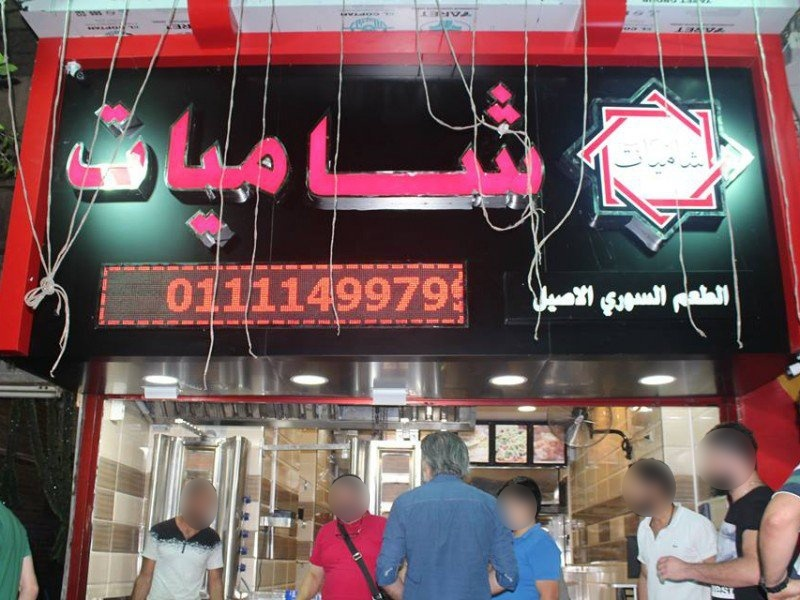text: (65, 83, 80, 240), (81, 83, 96, 240), (97, 83, 112, 240), (113, 83, 128, 240), (129, 83, 144, 240), (145, 83, 160, 240), (161, 83, 176, 240), (177, 83, 192, 240), (193, 83, 208, 240), (209, 83, 224, 240), (225, 83, 240, 240), (241, 83, 256, 240), (257, 83, 272, 240), (273, 83, 288, 240), (289, 83, 304, 240), (305, 83, 320, 240), (321, 83, 336, 240), (337, 83, 352, 240), (353, 83, 368, 240), (369, 83, 384, 240), (385, 83, 400, 240), (401, 83, 416, 240), (417, 83, 432, 240), (433, 83, 448, 240), (449, 83, 464, 240), (465, 83, 480, 240), (481, 83, 496, 240), (497, 83, 512, 240), (513, 83, 528, 240), (529, 83, 544, 240), (545, 83, 551, 240), (177, 273, 192, 316), (193, 273, 208, 316), (209, 273, 224, 316), (225, 273, 240, 316), (241, 273, 256, 316), (257, 273, 272, 316), (273, 273, 288, 316), (289, 273, 304, 316), (305, 273, 320, 316), (321, 273, 336, 316), (337, 273, 352, 316), (353, 273, 368, 316), (369, 273, 384, 316), (385, 273, 400, 316), (401, 273, 416, 316), (417, 273, 432, 316), (433, 273, 448, 316), (673, 283, 688, 319), (689, 283, 704, 319), (705, 283, 720, 319), (609, 283, 624, 319), (625, 283, 640, 319), (641, 283, 656, 319), (164, 273, 176, 316), (625, 144, 640, 175), (641, 144, 656, 175), (657, 144, 672, 175), (673, 144, 688, 175), (689, 144, 704, 175), (545, 283, 560, 313), (561, 283, 576, 313), (577, 283, 592, 313), (657, 283, 669, 319), (530, 283, 544, 313), (721, 283, 732, 319), (613, 144, 624, 175), (601, 283, 608, 319), (705, 144, 710, 175), (449, 273, 452, 316), (593, 283, 597, 313)
